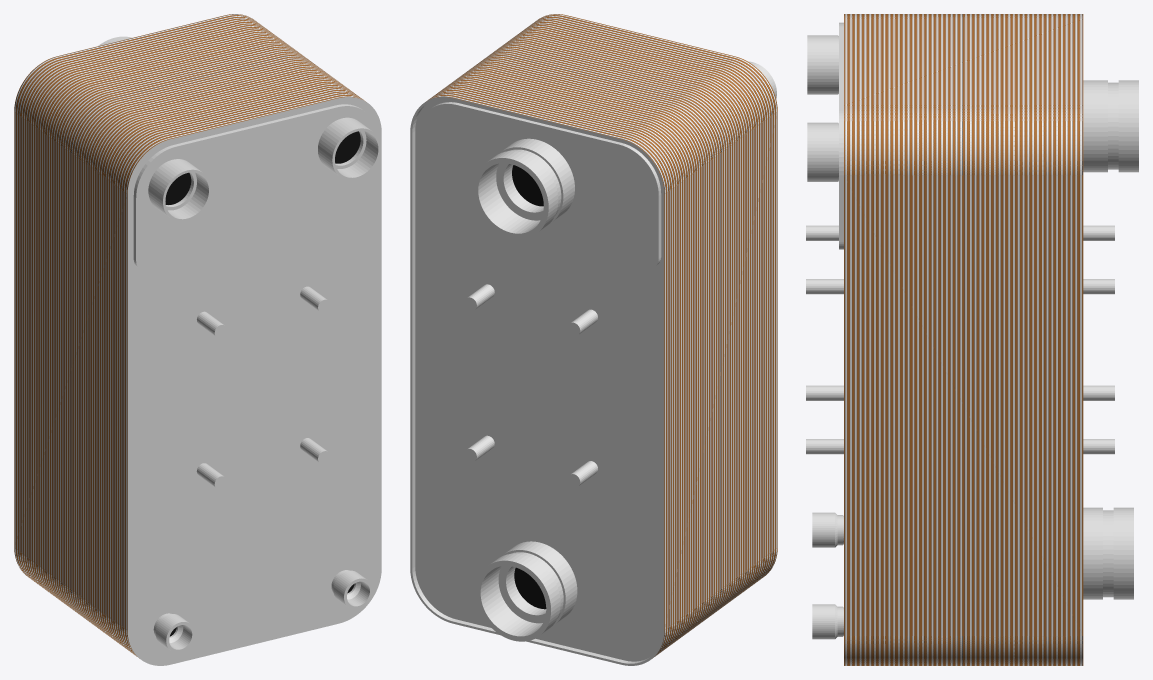
File: T26001_9088_C117L_EZD_B_110_v03.glb
The picture shows the model from 3 angles, left to right: view 1: azimuth 30°, elevation 25°; view 2: azimuth 150°, elevation 25°; view 3: azimuth 270°, elevation 25°; orthographic projection. The views are drawn at different scales.
Visible parts, largest first — view 1: T26001_9088_C117L_EZD_B_110, Cylinder.002, Cylinder.003; view 2: T26001_9088_C117L_EZD_B_110, Cylinder.001, Cylinder; view 3: T26001_9088_C117L_EZD_B_110.
Part boxes in pixels (x1,y1,x2,y2): T26001_9088_C117L_EZD_B_110: (14,14,381,665); Cylinder.002: (165,172,191,204); Cylinder.003: (335,131,360,163); T26001_9088_C117L_EZD_B_110: (410,14,777,665); Cylinder.001: (514,567,546,609); Cylinder: (512,165,543,206); T26001_9088_C117L_EZD_B_110: (806,14,1138,665).
Size of the model in its own units: 0.1177 by 0.2325 by 0.1263.
Materials: 3 (1 with a texture image).
